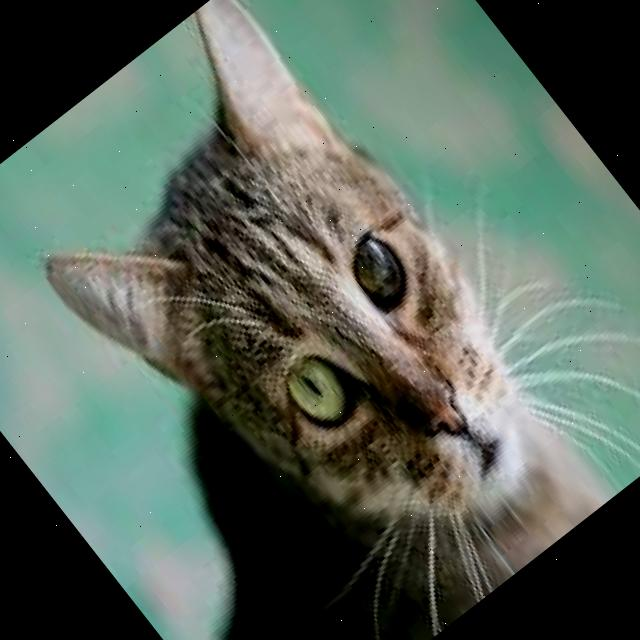cat-eye: (328, 218, 428, 326)
cat-eye-normal: (266, 330, 378, 444)
